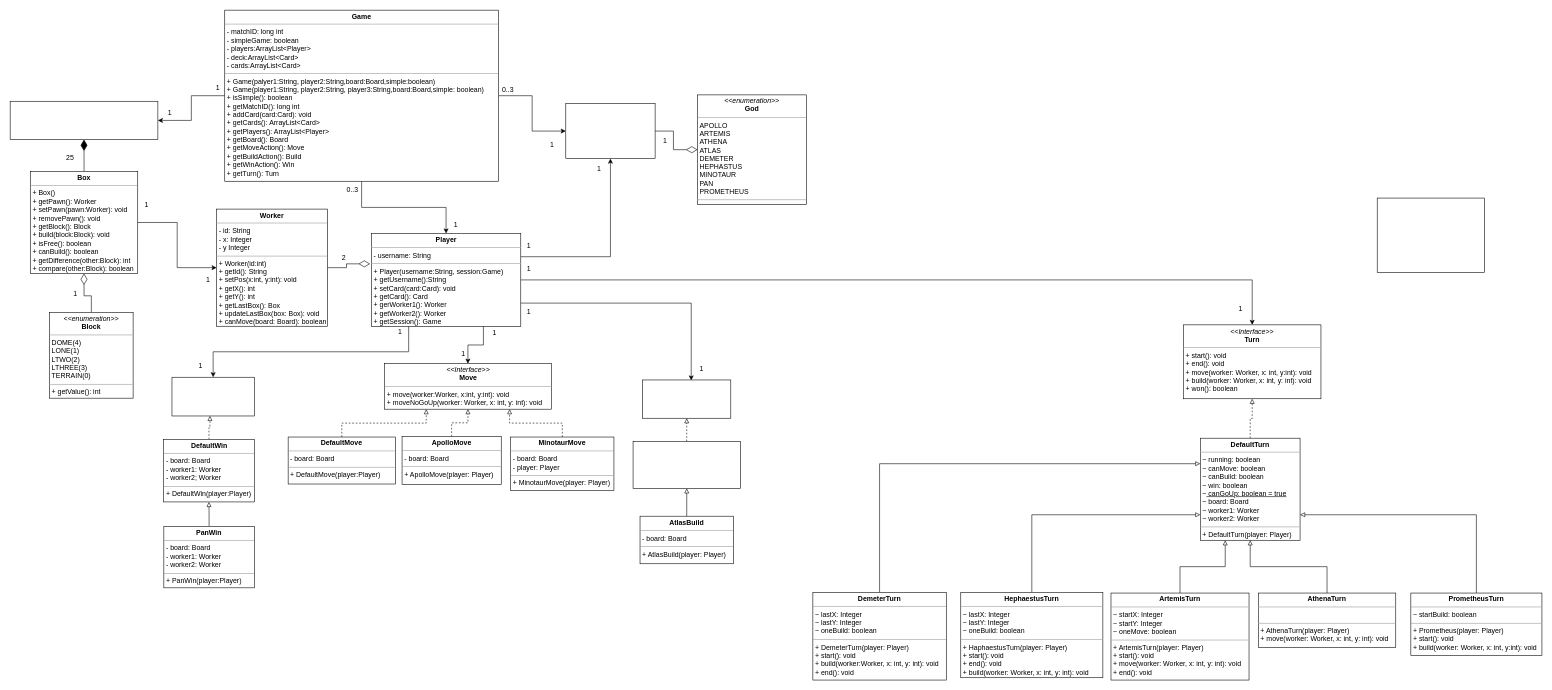
The diagram is 1552 pixels wide and 690 high, and some of its shapes have lost their labels. The centre of each missing label's shape, as x and y in pixels:
<<Interface>> Build + build(x:init, y:int): void: pixel 686 398
<<Interface>> Win + winChecker(): boolean: pixel 212 396
Board + placePawn(worker:Worker, x:int, y:int): void + getBox(x:int, y:int): Box: pixel 84 120
Card - name: God +Card(g:God):Card + getName(): void: pixel 610 131
Controller - mapOutcome: pixel 1431 234
DefaultBuild - board:Board + DefaultBuild(player:Player): pixel 686 464
